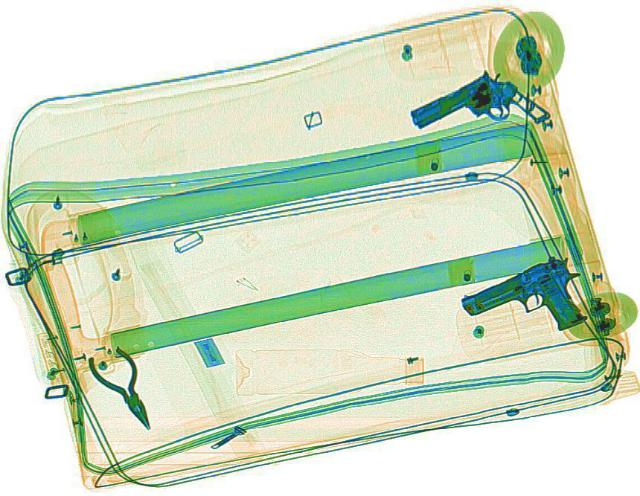Gun: (453, 249, 611, 353), (396, 59, 552, 162)
Pliers: (78, 343, 170, 432)
